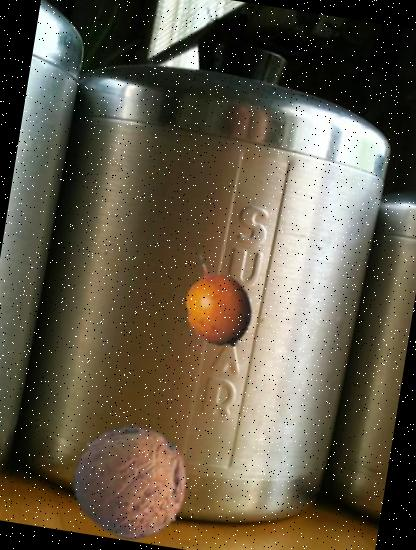Granadilla: (162, 245, 273, 356)
Walnut: (65, 415, 198, 548)
